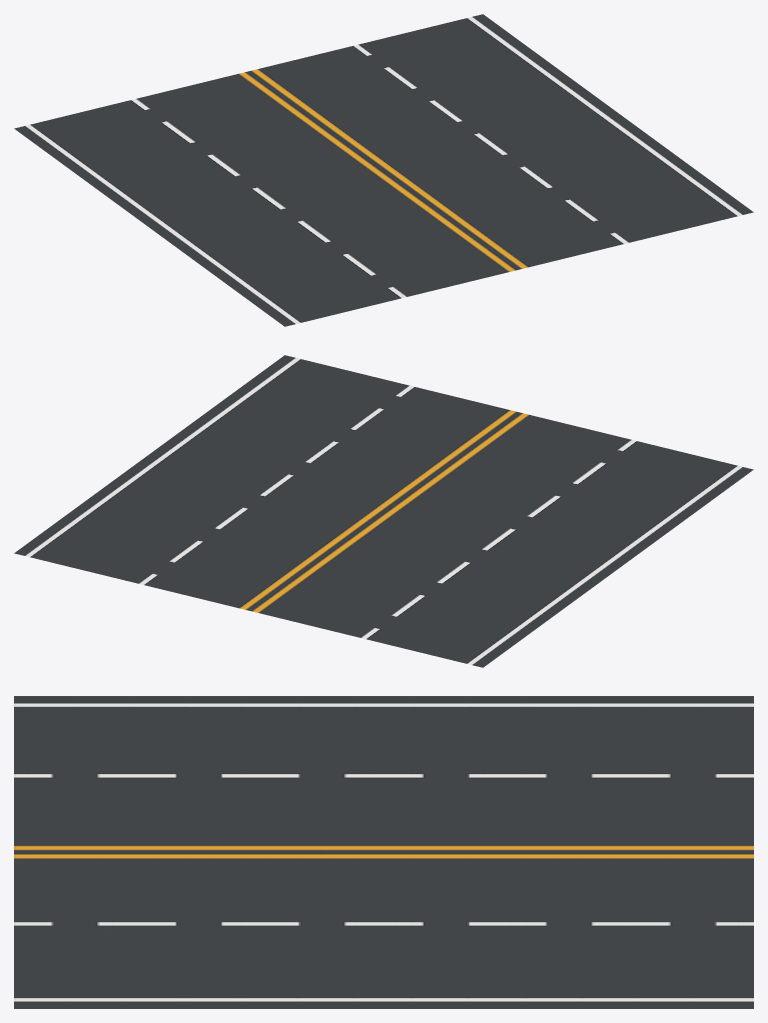
File: yol_deneme.fbx
3 views of the same model, one above another, from view 1: azimuth 30°, elevation 25°; view 2: azimuth 150°, elevation 25°; view 3: azimuth 270°, elevation 25° (orthographic). The views are drawn at different scales.
Visible parts, largest first — view 1: Road; view 2: Road; view 3: Road.
Part boxes in pixels (x1=…): Road: x1=14, y1=14, x2=753, y2=326; Road: x1=14, y1=355, x2=753, y2=667; Road: x1=14, y1=696, x2=753, y2=1008.
Bounding box in the file's own units: 200 × 0 × 200.
1 material, 1 textured.
